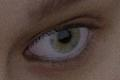eye: (50, 27, 81, 53)
